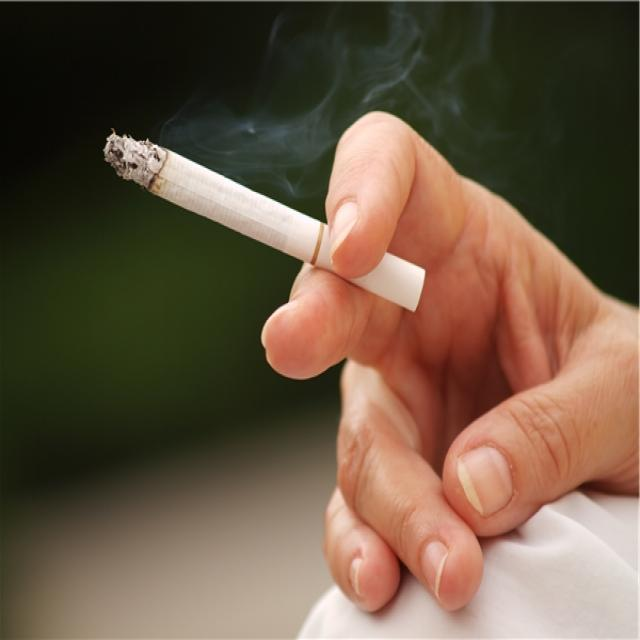smoking: (102, 130, 426, 315)
